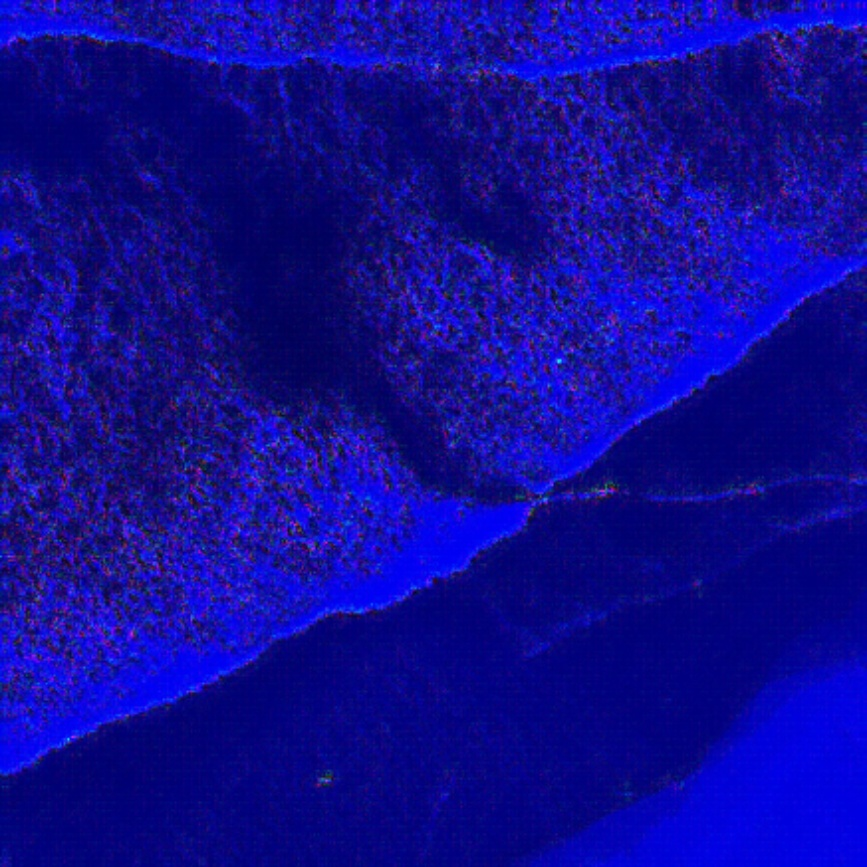rip_current: (117, 61, 519, 509)
